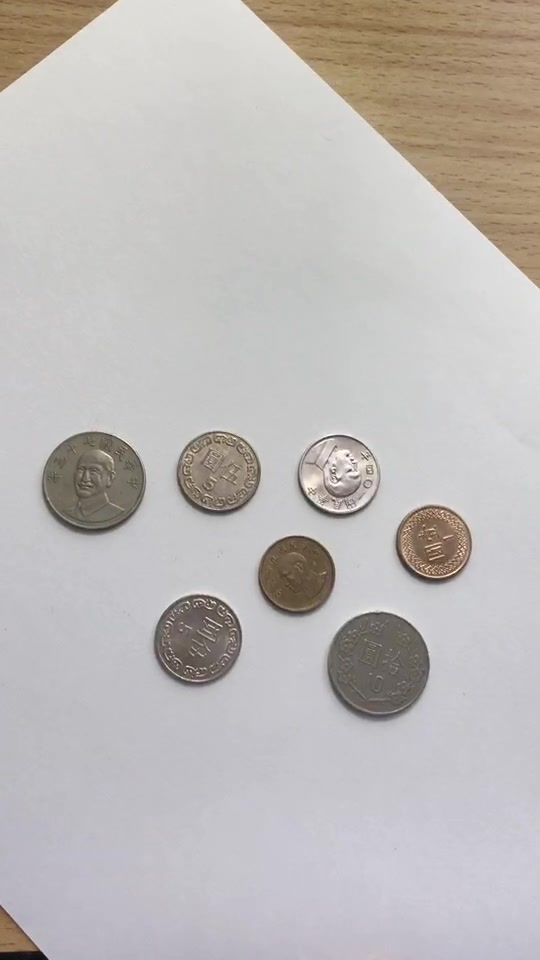1 dallar: (255, 524, 340, 619), (390, 493, 475, 588)
10 dallar: (31, 421, 149, 545), (319, 602, 437, 726)
5 dallar: (168, 418, 265, 528), (293, 414, 390, 524), (147, 583, 244, 693)
